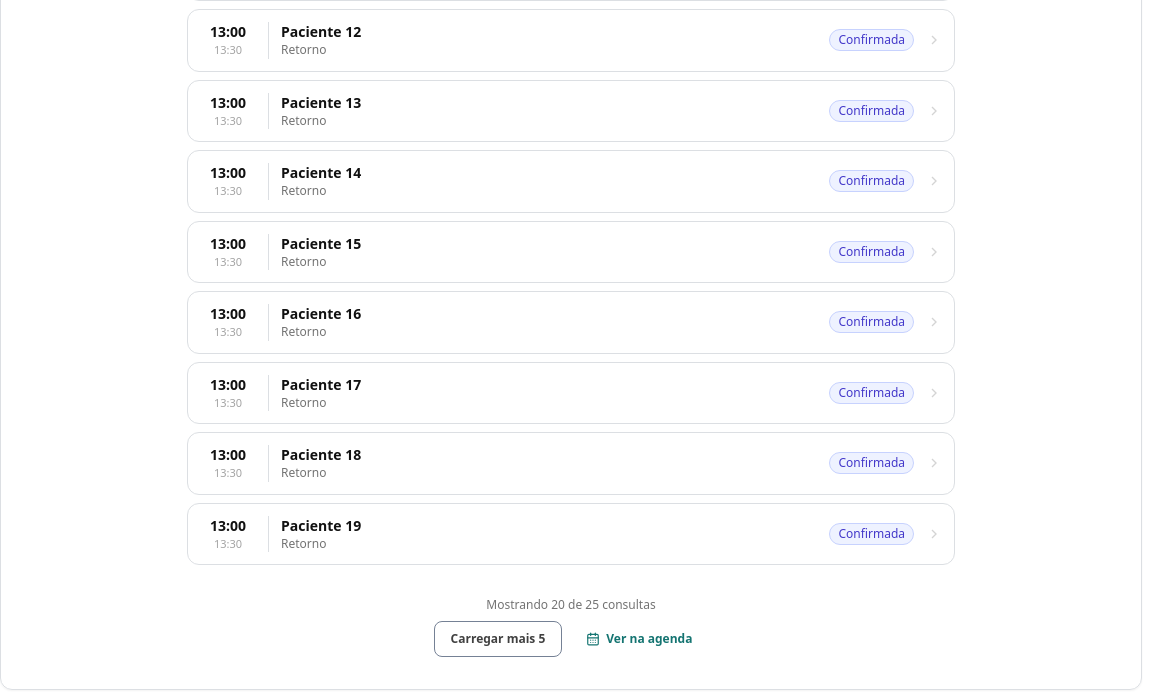
AtendimentoHubPage — paginação › carrega mais 20 a partir de onde parou, até o total
The image size is (1152, 700).
(page scrolled)
Expected: the message reads "Mostrando 20 de 25 consultas", [486, 597, 656, 613]
Expected: the button "Ver na agenda" is shown, [570, 621, 708, 657]
What coordinates should you click on to do the following:
click the button "Carregar mais 5"
I would click on:
 (498, 639)
Its box is [434, 621, 562, 657].
(page scrolled)
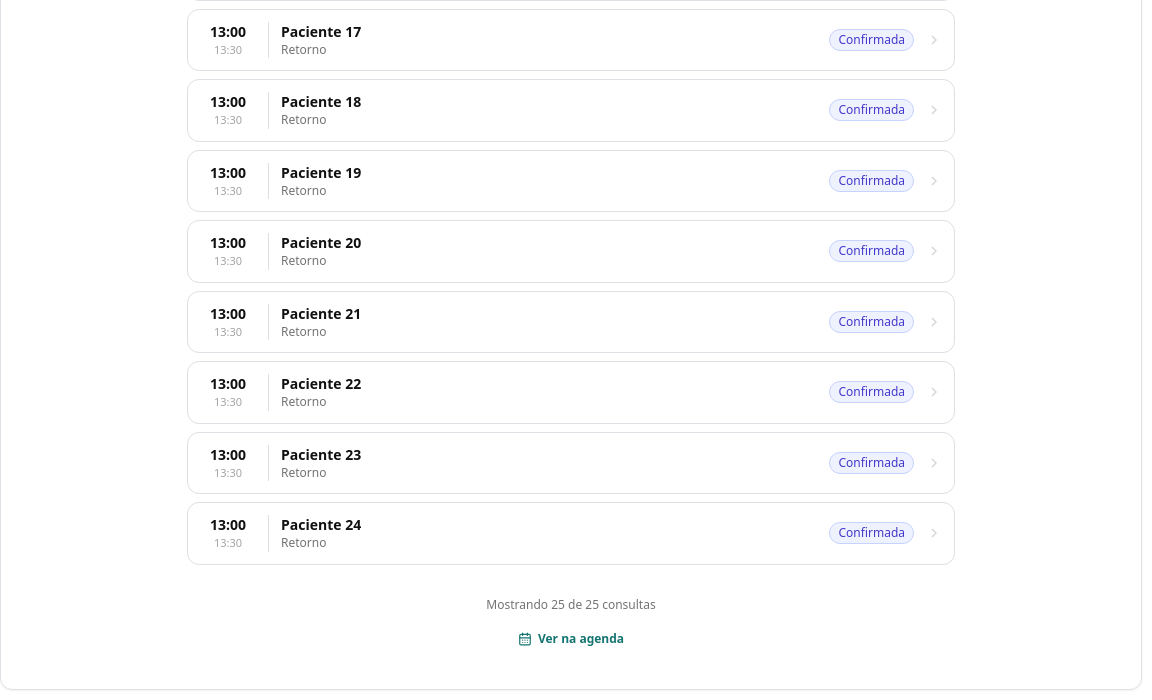
Now the text "Paciente 24" is shown, box [281, 515, 361, 534]
Now the message reads "Mostrando 25 de 25 consultas", box [486, 596, 656, 612]
Now the button "Carregar mais" is gone
